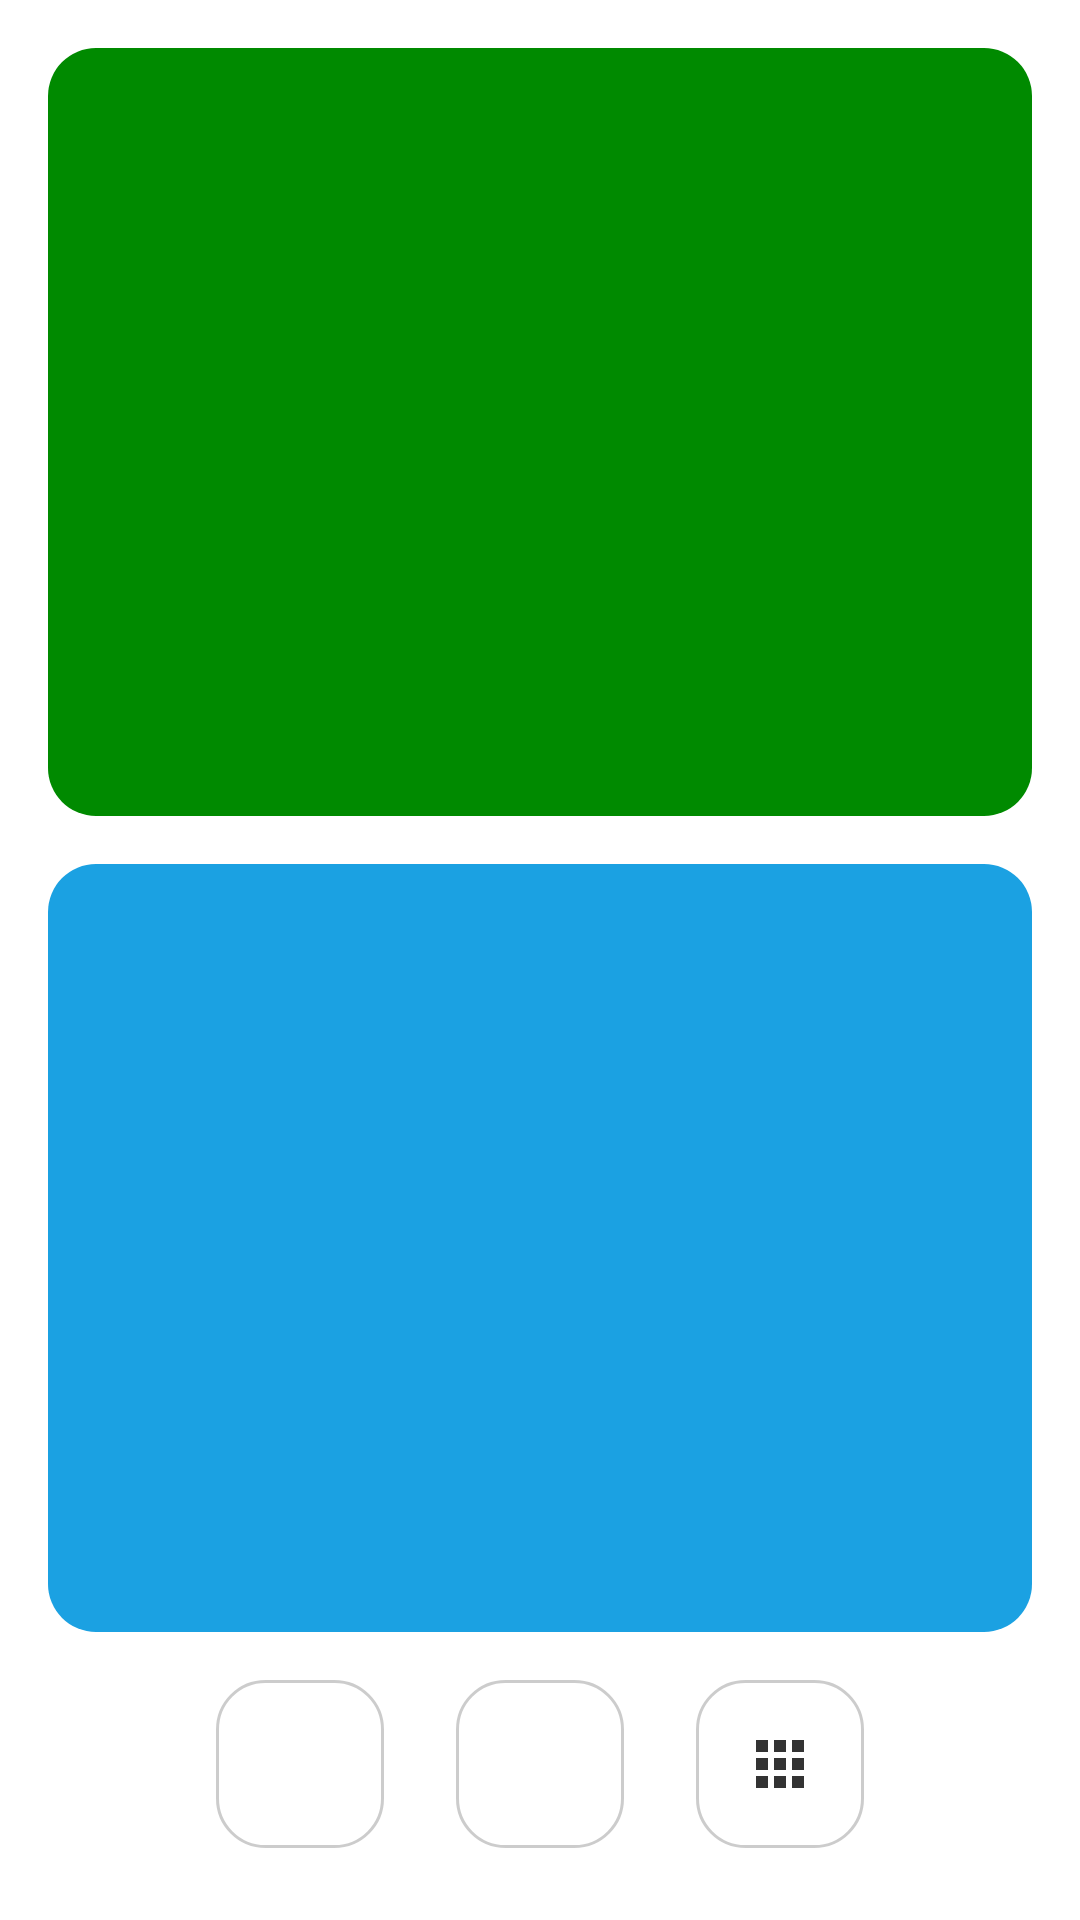

Named icons in this screenshot (1080x1920) and their bounding boxes, (x1, y1, x2, y2):
Menú: (696, 1680, 864, 1848)
